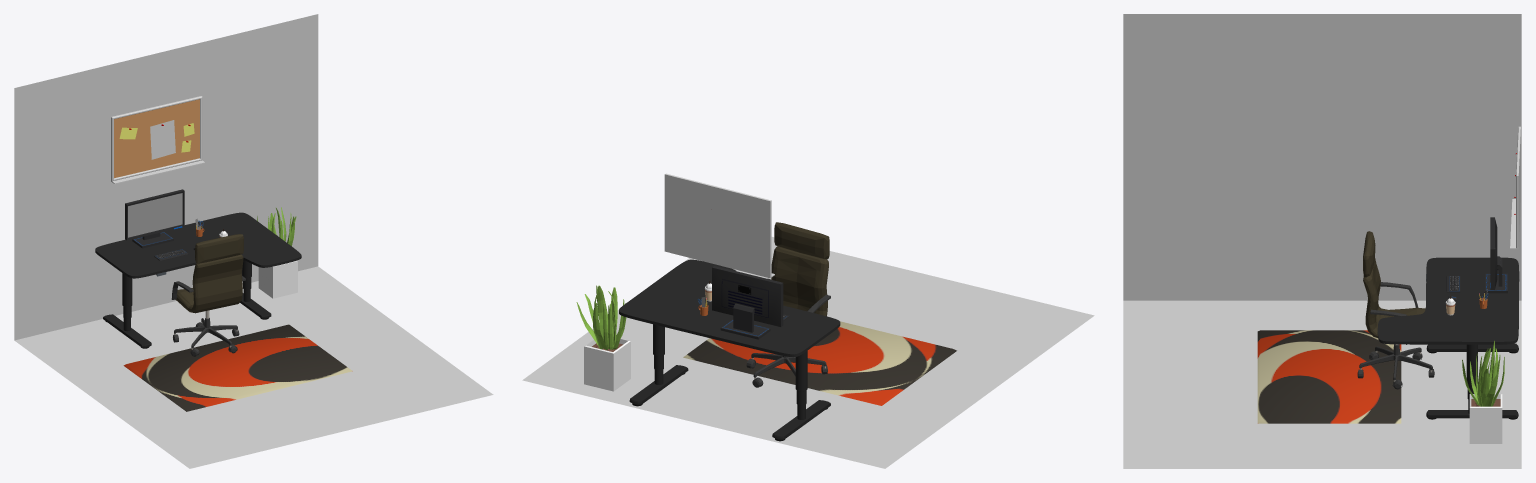
File: office3.gltf
3 views of the same model, side by side, from view 1: azimuth 30°, elevation 25°; view 2: azimuth 150°, elevation 25°; view 3: azimuth 270°, elevation 25° (orthographic). The views are drawn at different scales.
Parts seen in each view (by area): view 1: Plane, Cube.002, Message_Board, Plane.001_Plane.002, Node, Monitor, group1885116500, Cube_Cube.001; view 2: Plane, Cube.002, Message_Board, Plane.001_Plane.002, Node, Monitor, group1885116500, Cube.006_Cube.007, Cube_Cube.001; view 3: Plane, Cube.002, Plane.001_Plane.002, Node, group1885116500, Monitor, Message_Board, Cube_Cube.001, Cube.006_Cube.007, Cylinder.010.
Part boxes in pixels (x1,y1,x2,y2): Plane: (14,14,493,468); Cube.002: (123,324,352,411); Message_Board: (111,96,204,184); Plane.001_Plane.002: (95,212,301,278); Node: (171,234,245,356); Monitor: (125,189,184,248); group1885116500: (258,260,297,298); Cube_Cube.001: (103,314,151,347); Plane: (522,237,1094,468); Cube.002: (683,321,956,405); Message_Board: (664,173,774,278); Plane.001_Plane.002: (619,259,840,357); Node: (746,222,830,387); Monitor: (712,266,783,339); group1885116500: (584,338,630,391); Cube.006_Cube.007: (629,365,688,404); Cube_Cube.001: (772,400,830,439); Plane: (1123,14,1521,468); Cube.002: (1257,330,1401,423); Plane.001_Plane.002: (1377,257,1519,344); Node: (1357,231,1434,389); group1885116500: (1469,394,1502,443); Monitor: (1485,217,1507,293); Message_Board: (1510,126,1520,249); Cube_Cube.001: (1426,343,1518,351); Cube.006_Cube.007: (1426,410,1518,418); Cylinder.010: (1466,344,1477,386).
Size of the model in its own units: 4 by 3.17 by 4.
Materials: 20 (4 with a texture image).
